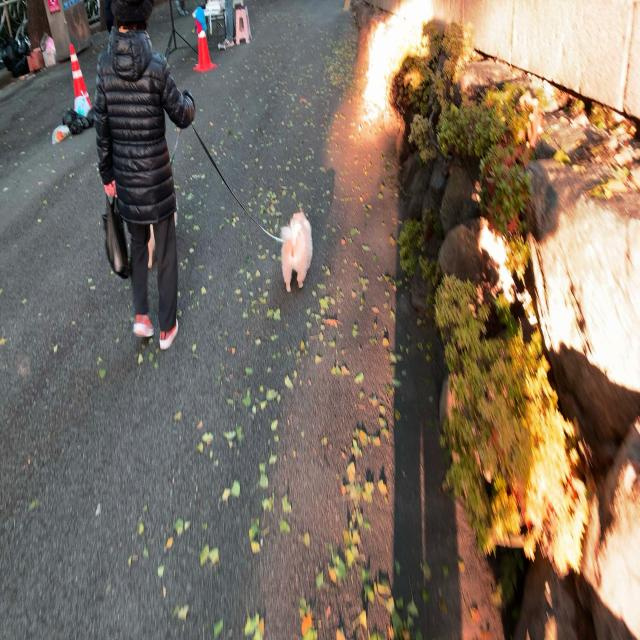Leashed_Dog: (142, 88, 314, 294)
